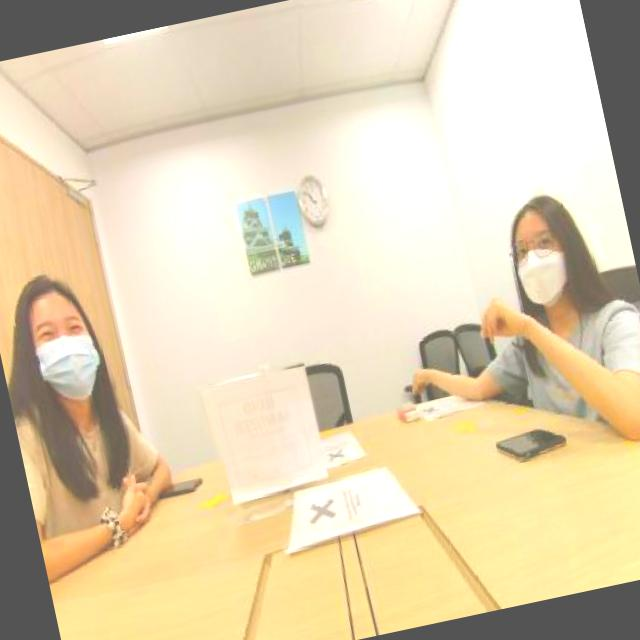Person: (450, 144, 640, 434), (0, 247, 157, 512)
